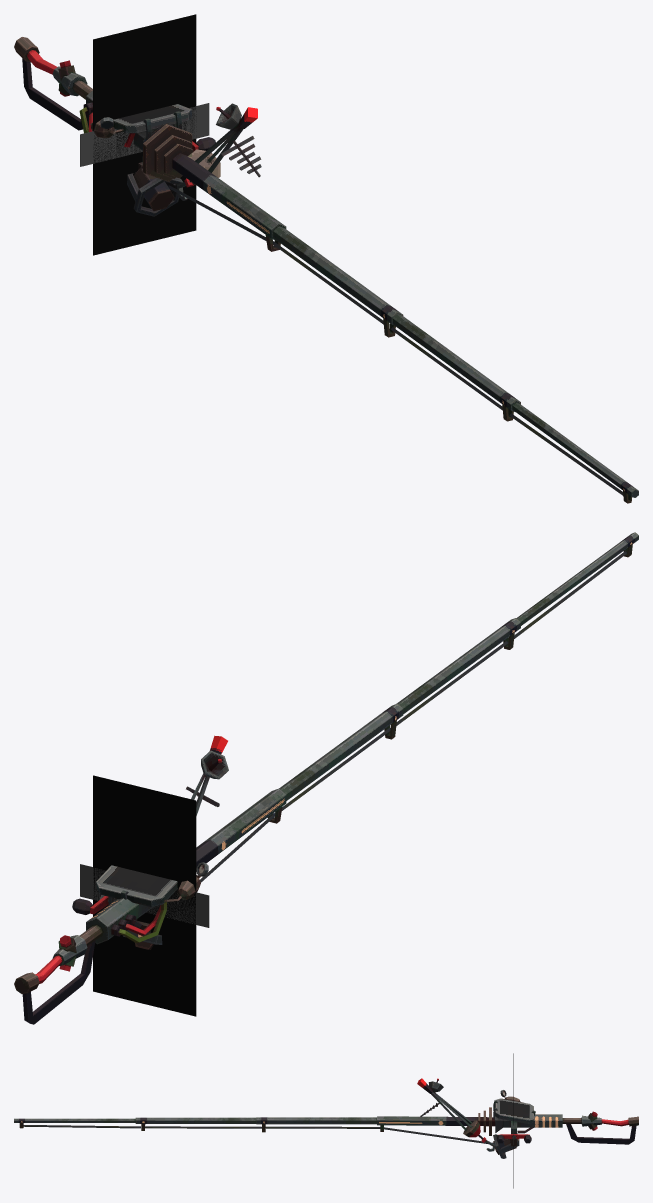
Rendered from item_special_fishing_rod_with_radar.glb.
The picture shows the model from 3 angles, top to bottom: view 1: azimuth 30°, elevation 25°; view 2: azimuth 150°, elevation 25°; view 3: azimuth 270°, elevation 25°; orthographic projection. The views are drawn at different scales.
Parts seen in each view (by area): view 1: Cube (×3), Special_FishingRod_submesh_0, Special_Bobber, Special_Radar; view 2: Cube (×3), Special_FishingRod_submesh_0, Special_Radar, Special_Bobber; view 3: Special_FishingRod_submesh_0, Special_Radar, Special_Bobber, Special_FishingReel.
Part boxes in pixels (x1=…): Cube (×3): x1=80, y1=14, x2=209, y2=255; Special_FishingRod_submesh_0: x1=14, y1=37, x2=638, y2=503; Special_Bobber: x1=187, y1=103, x2=261, y2=185; Special_Radar: x1=79, y1=102, x2=192, y2=147; Cube (×3): x1=80, y1=775, x2=209, y2=1016; Special_FishingRod_submesh_0: x1=14, y1=532, x2=638, y2=1024; Special_Radar: x1=96, y1=862, x2=208, y2=942; Special_Bobber: x1=186, y1=735, x2=228, y2=815; Special_FishingRod_submesh_0: x1=14, y1=1100, x2=638, y2=1158; Special_Radar: x1=495, y1=1090, x2=533, y2=1139; Special_Bobber: x1=417, y1=1078, x2=480, y2=1137; Special_FishingReel: x1=496, y1=1134, x2=531, y2=1143.
Size of the model in its own units: 0.25 by 0.4 by 2.06.
Materials: 4 (2 with a texture image).
